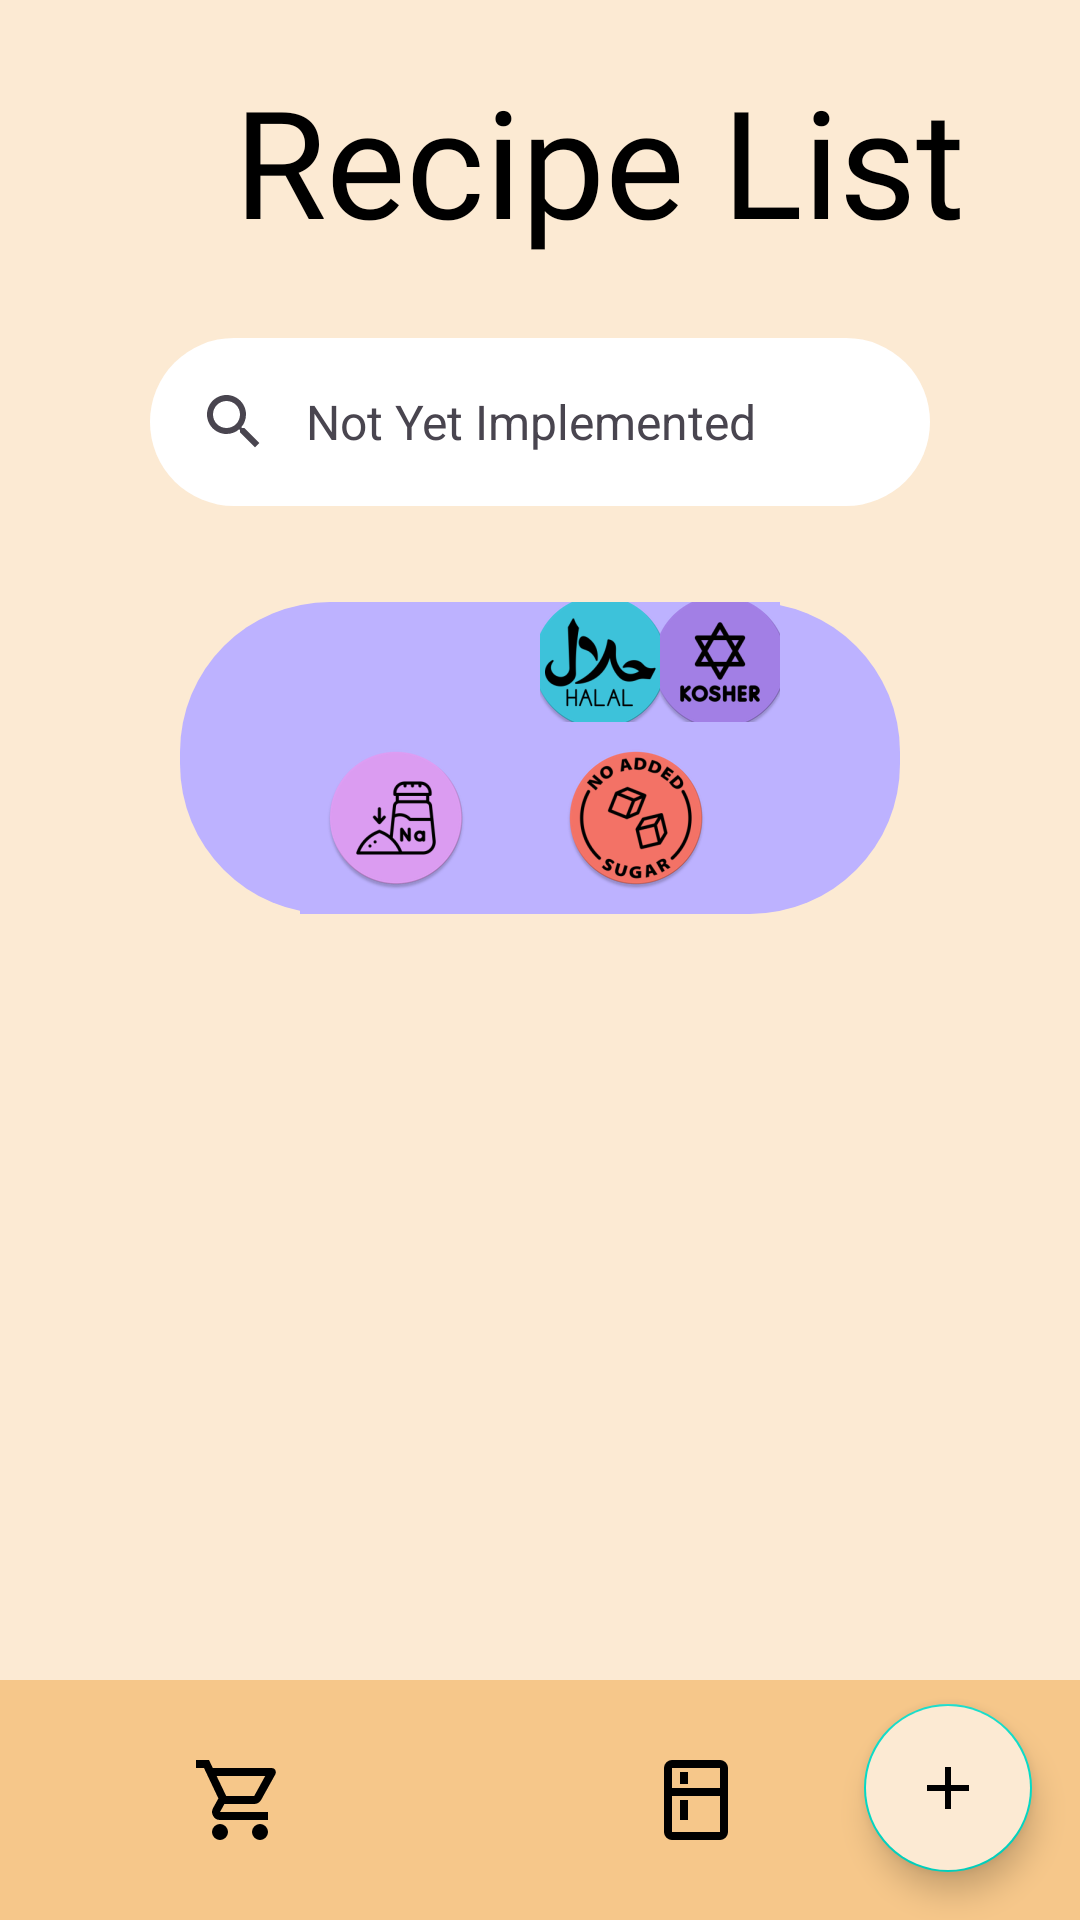

Icon click points for this 1080px x 1920px phone screenshot, format [x,y]:
low sodium round: [396,819]
This will quickly add an item to the recipe: [948,1788]
